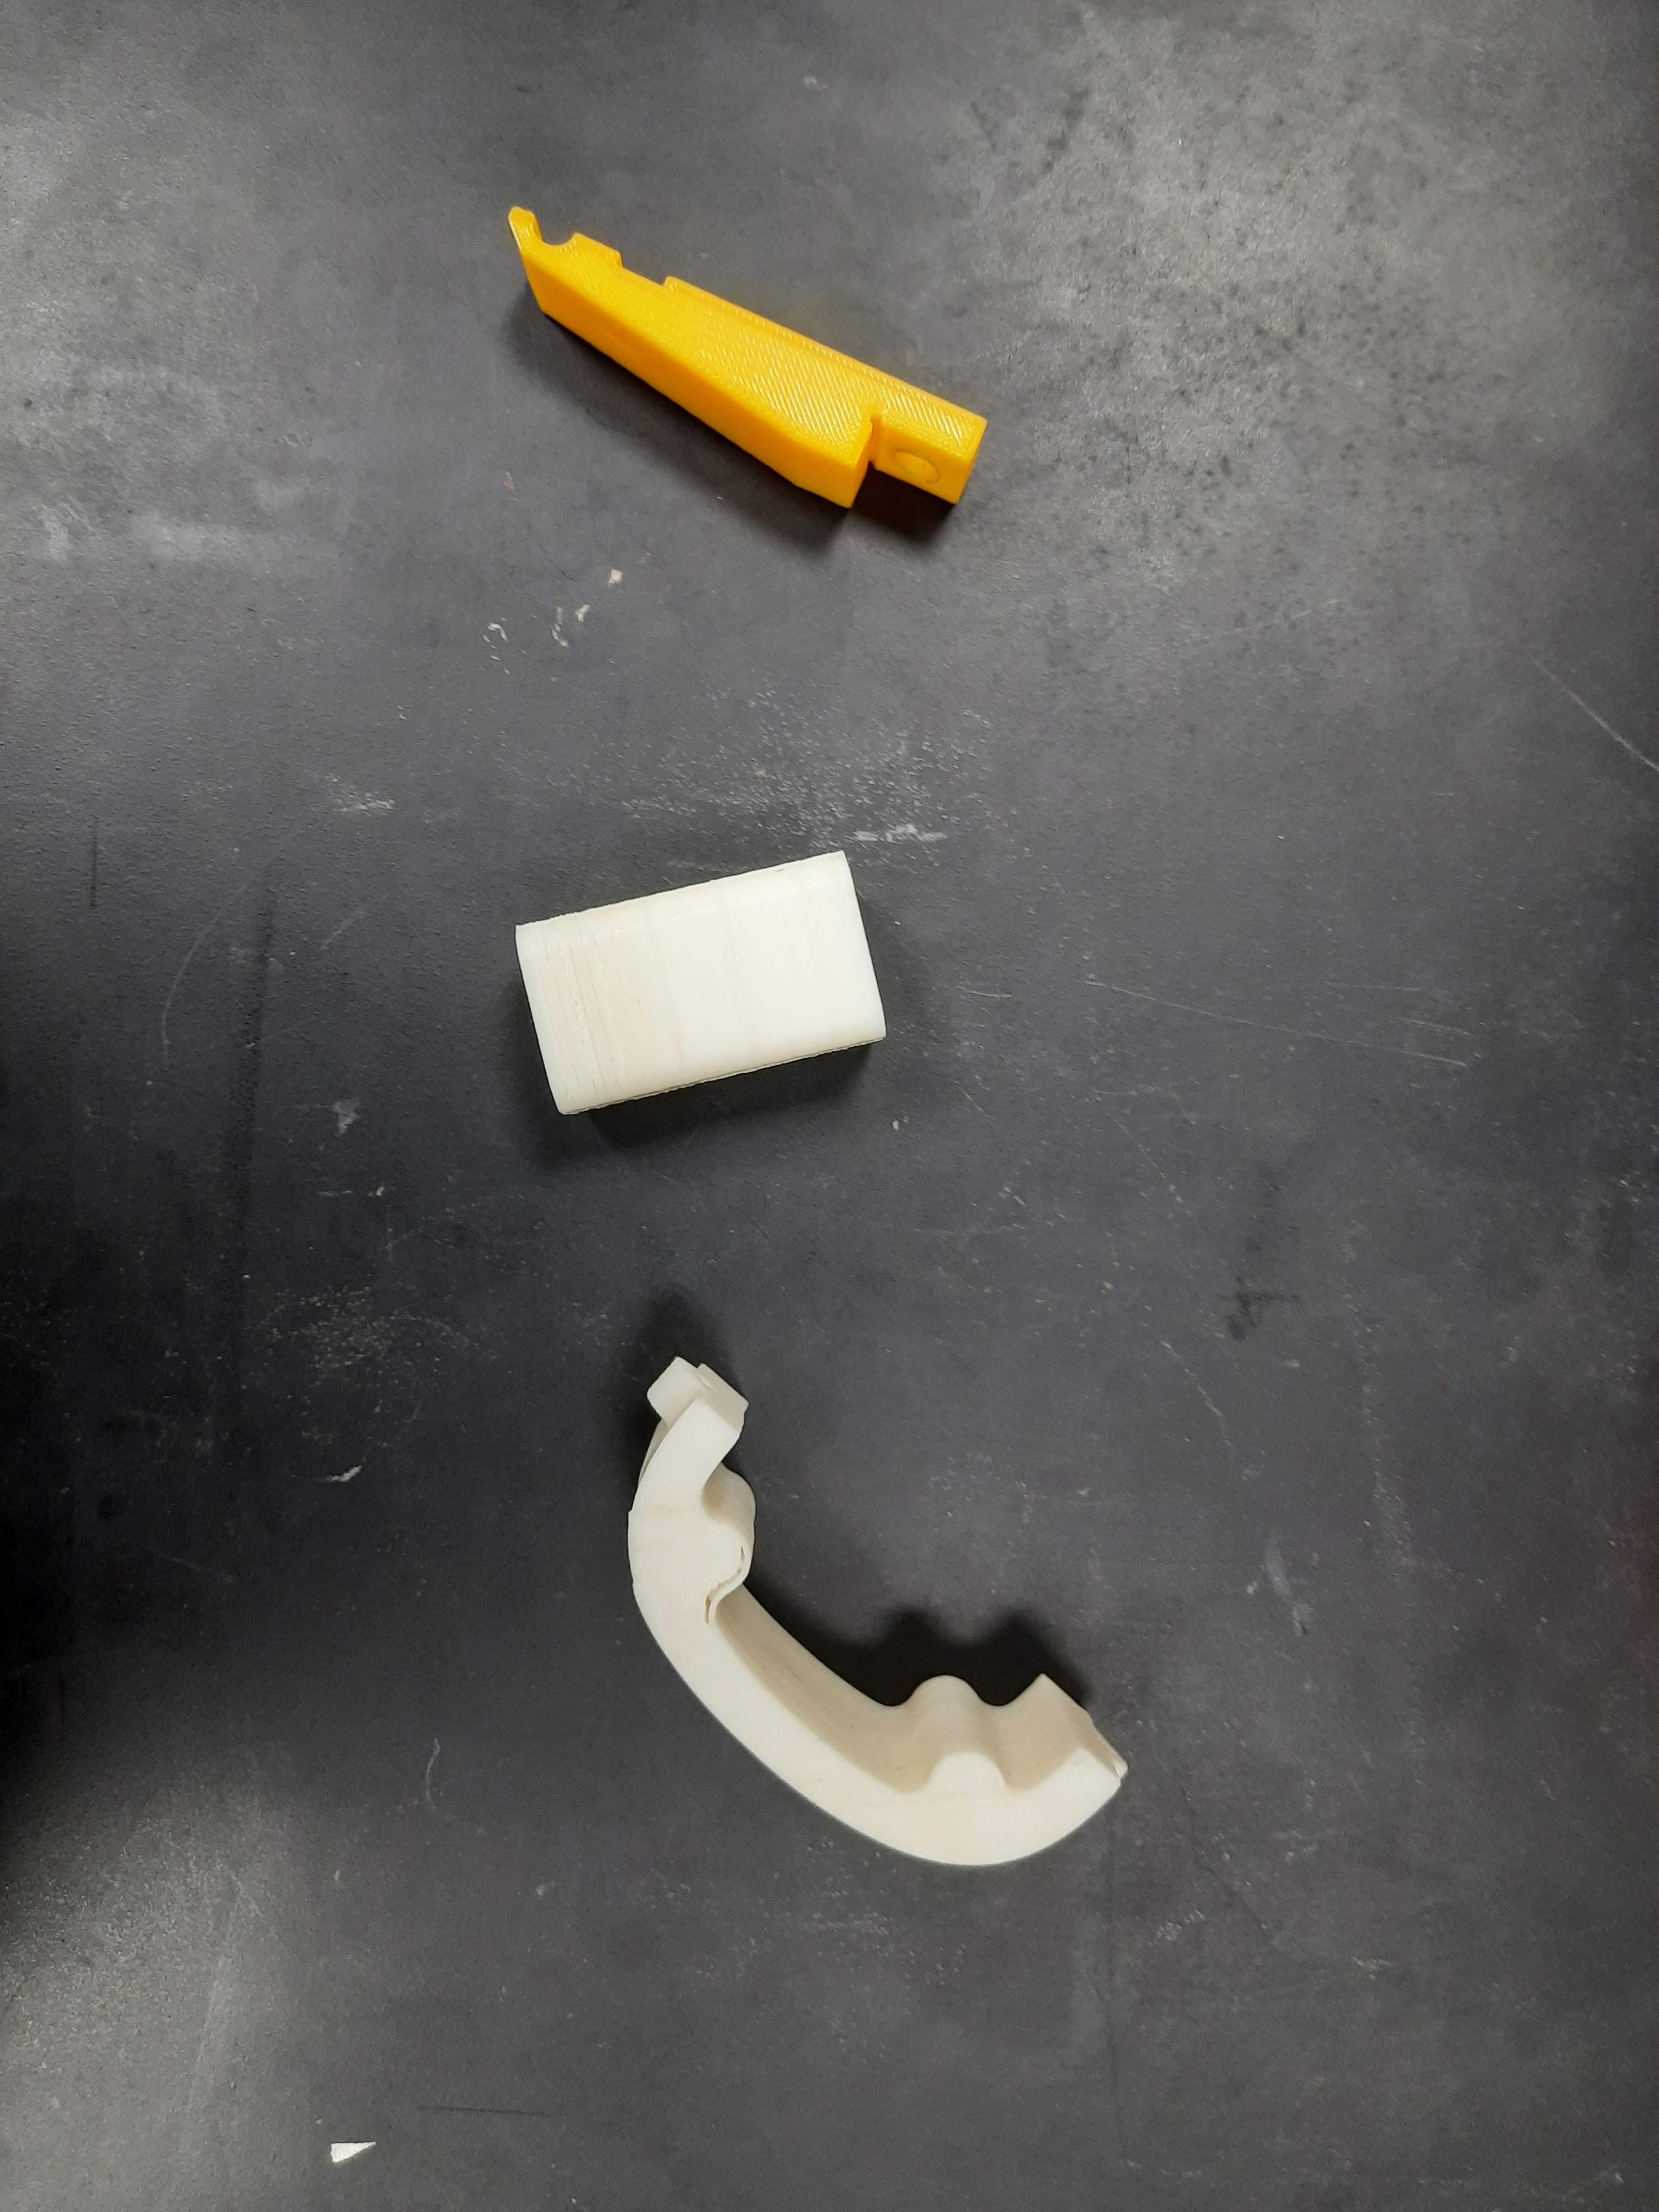ARC: (516, 1339, 1150, 1954)
CUBE: (519, 848, 885, 1116)
YELLOW: (453, 200, 1000, 545)
